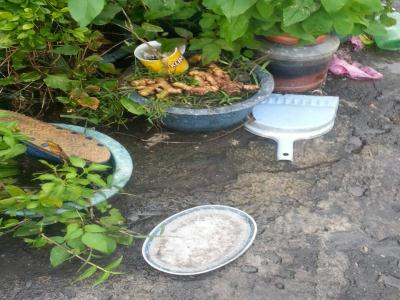bottle: (131, 38, 193, 90)
plate: (139, 203, 261, 283)
